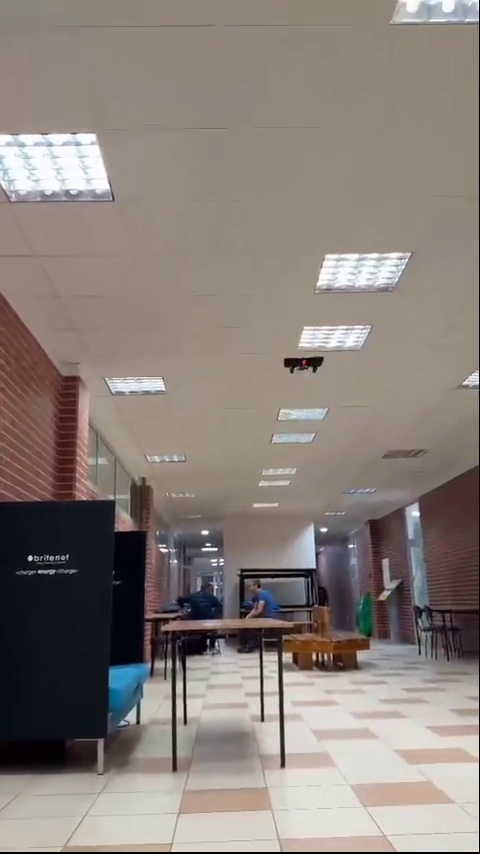drone: (282, 357, 325, 375)
no vest: (240, 578, 286, 623), (180, 581, 224, 613)
